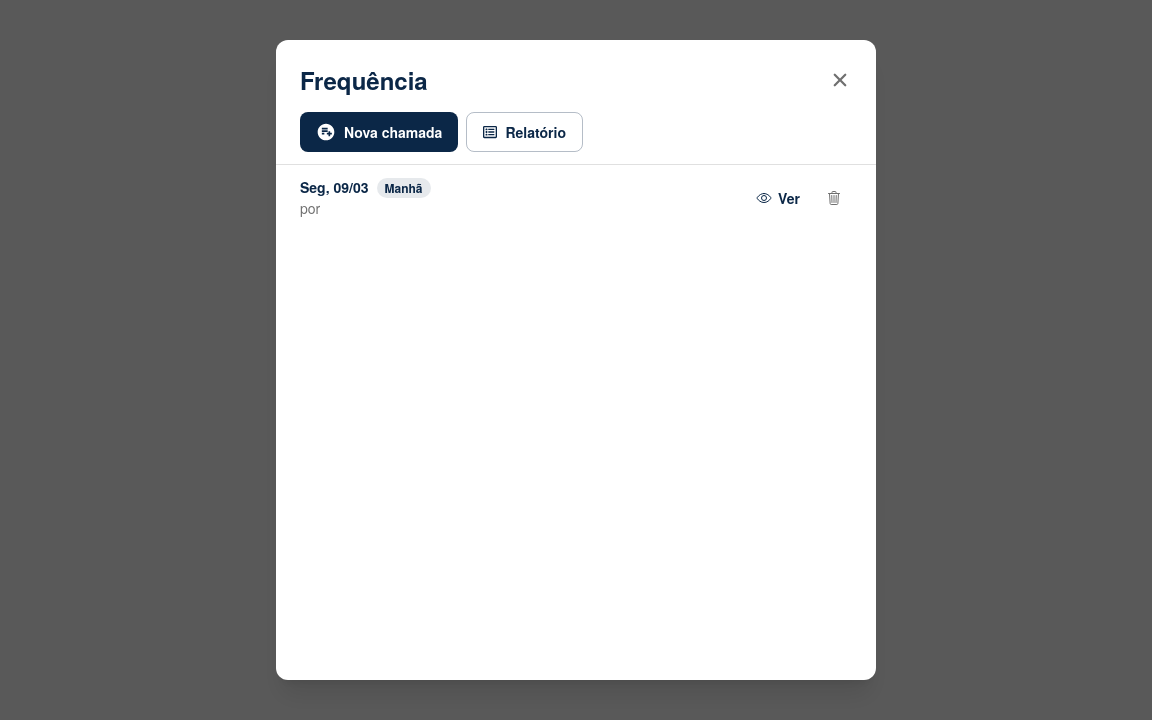
Scenario: excluir chamada (tickets-documentacao, 11) › sucesso: avisa e tira da lista
Click the button named "Excluir" at (834, 198), box [816, 180, 852, 216]
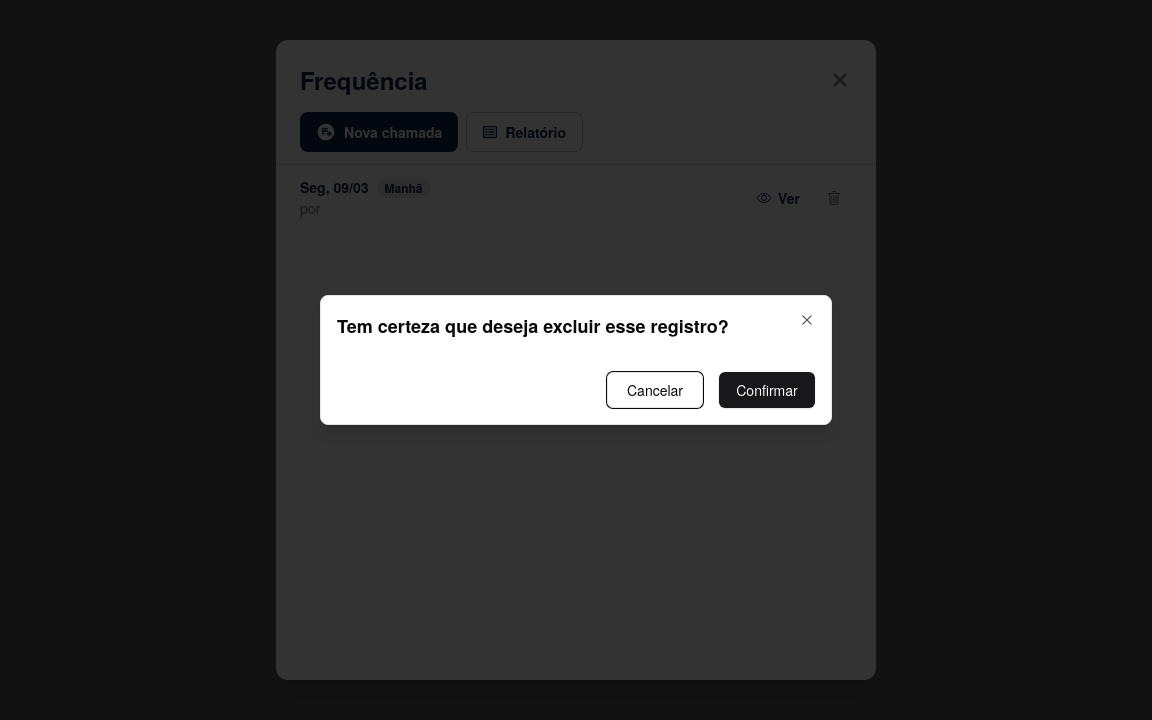
Click the button "Confirmar" at (767, 390), box [719, 372, 815, 408]
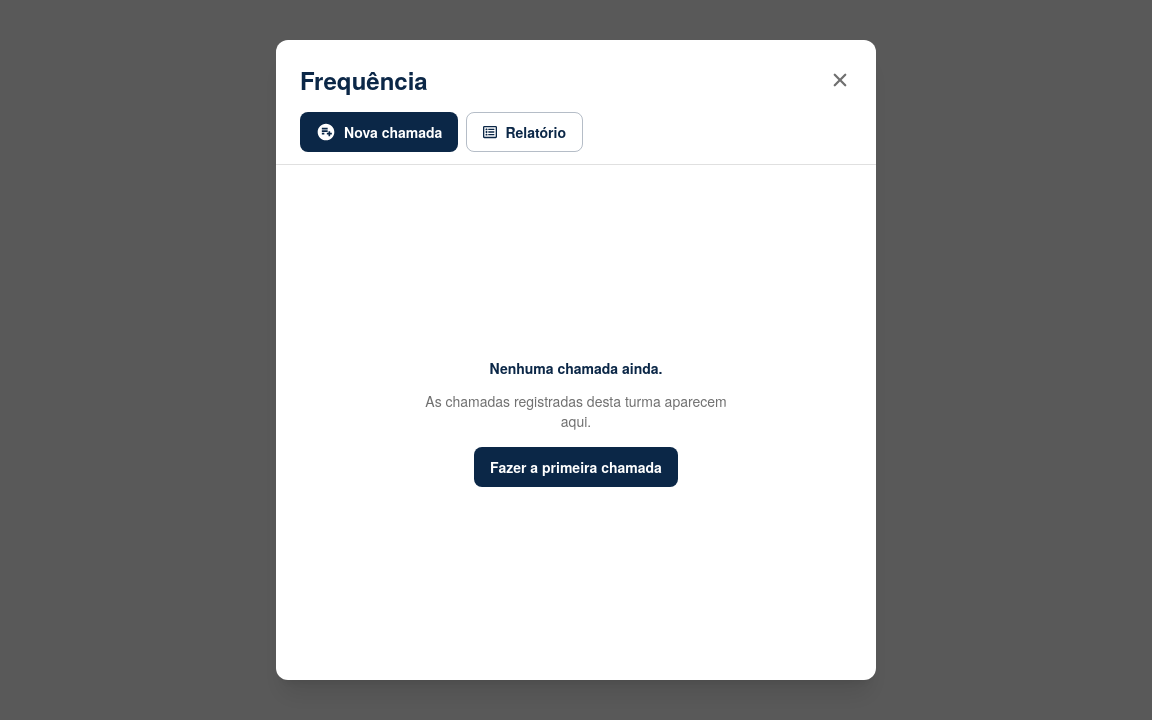
Expected: the heading "excluir" is gone
